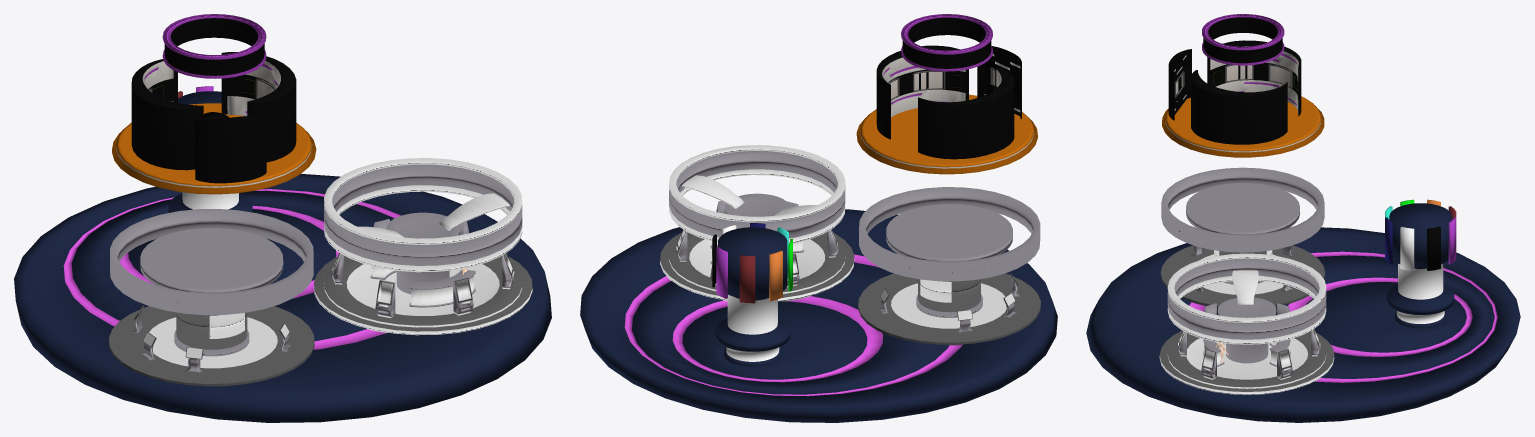
File: magister.glb
3 views of the same model, side by side, from view 1: azimuth 30°, elevation 25°; view 2: azimuth 150°, elevation 25°; view 3: azimuth 270°, elevation 25° (orthographic). The views are drawn at different scales.
Parts seen in each view (by area): view 1: Floor_Ruangan_Animasi, Cube.001, BOOTH_FILM, Cylinder.017, Cylinder.015, Cylinder.016, Tiang tengah, layar.004, Cube.008; view 2: Floor_Ruangan_Animasi, BOOTH_FILM, Cube.001, Cylinder.017, Tiang tengah, Cylinder.015, Cylinder.016, layar.004, Cube.008; view 3: Floor_Ruangan_Animasi, Cube.001, BOOTH_FILM, Cylinder.017, Tiang tengah, Cylinder.015.
Part boxes in pixels (x1,y1,x2,y2): Floor_Ruangan_Animasi: [14, 174, 551, 422]; Cube.001: [314, 158, 532, 335]; BOOTH_FILM: [112, 14, 316, 194]; Cylinder.017: [110, 209, 313, 315]; Cylinder.015: [109, 306, 314, 386]; Cylinder.016: [174, 312, 249, 356]; Tiang tengah: [168, 86, 252, 212]; layar.004: [209, 313, 244, 338]; Cube.008: [132, 305, 291, 373]; Floor_Ruangan_Animasi: [580, 209, 1057, 422]; BOOTH_FILM: [856, 14, 1037, 174]; Cube.001: [660, 145, 854, 301]; Cylinder.017: [859, 187, 1040, 281]; Tiang tengah: [712, 223, 792, 370]; Cylinder.015: [858, 273, 1040, 345]; Cylinder.016: [916, 279, 982, 317]; layar.004: [920, 279, 951, 302]; Cube.008: [878, 272, 1020, 332]; Floor_Ruangan_Animasi: [1086, 227, 1520, 422]; Cube.001: [1159, 253, 1334, 394]; BOOTH_FILM: [1162, 14, 1324, 157]; Cylinder.017: [1161, 167, 1324, 252]; Tiang tengah: [1385, 199, 1456, 331]; Cylinder.015: [1160, 245, 1325, 307].
Bounding box in the file's own units: 22.31 × 15.05 × 22.76.
Materials: 23 (2 with a texture image).
